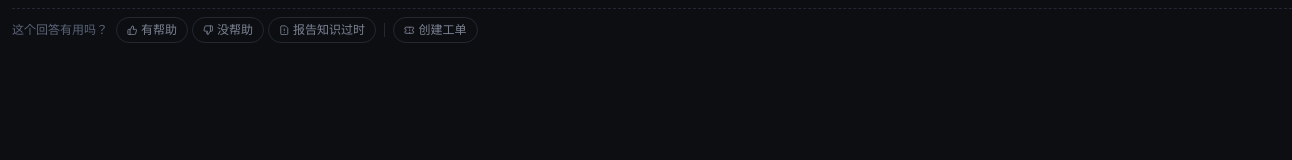
FeedbackRow › helpful vote POSTs the exact body (no comment key, NO messageId) and locks on 201 recorded
Click the button with test id "feedback-helpful". click: point(152, 30)
box: left=116, top=17, right=188, bottom=43
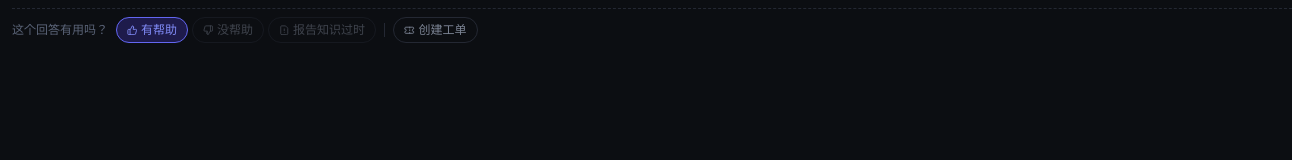
Expected: the button with test id "feedback-ticket" is enabled, left=393, top=17, right=478, bottom=43
Expected: the button with test id "feedback-unhelpful" is disabled, left=192, top=17, right=264, bottom=43
Expected: the button with test id "feedback-outdated" is disabled, left=268, top=17, right=376, bottom=43
